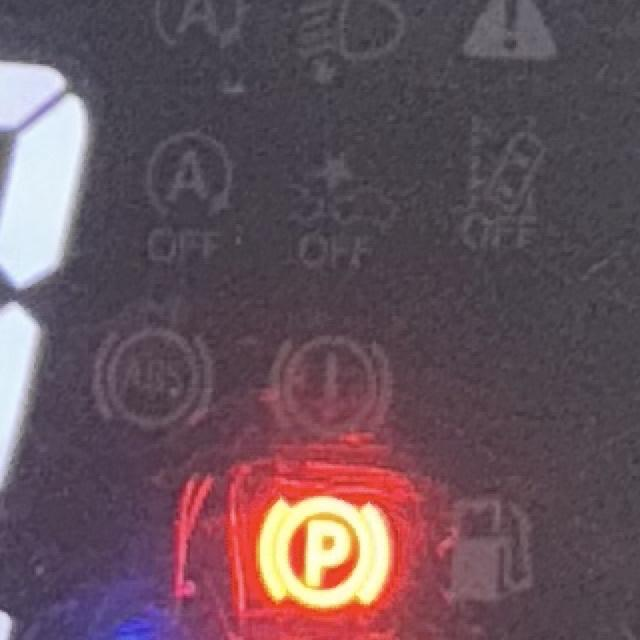Parking Break On: (258, 495, 395, 612)
